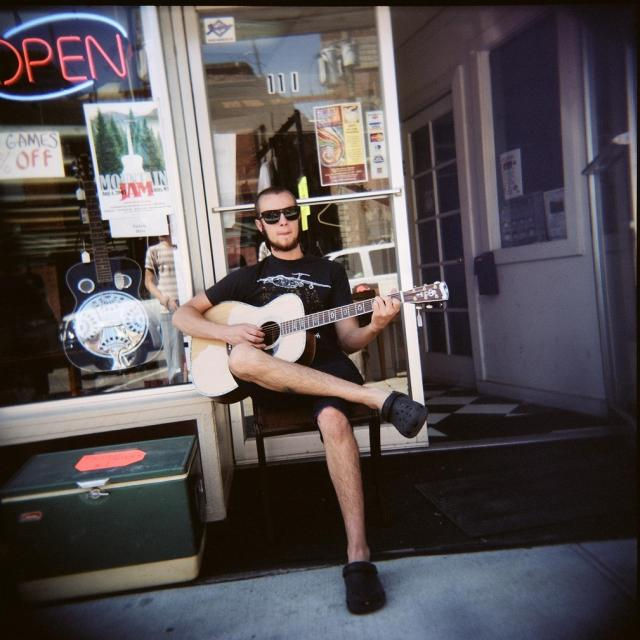guitar: (188, 280, 453, 403), (55, 151, 168, 370)
